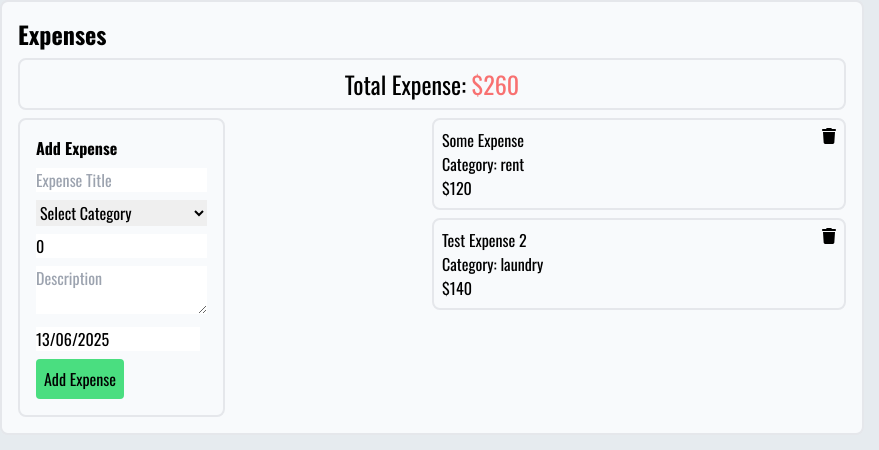
Test: List Expenses › Delete Expense › When the delete income button is clicked but there is an error with the request › should show an error message an keep the income in the list
Step 1. Click the picture with test id "delete-expense-123" → click(829, 136), box [822, 128, 836, 144]
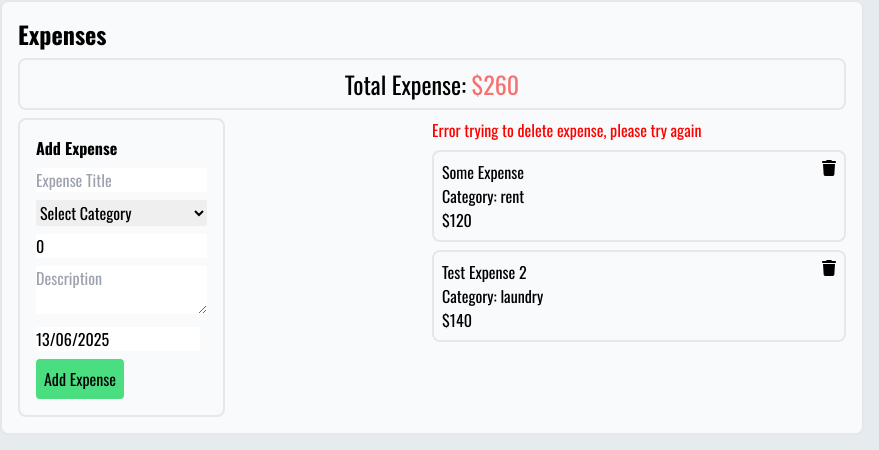
Expected: the text "Some Expense" is shown, [442, 160, 836, 184]
Expected: the text with test id "return-promise-message" reads "Error trying to delete expense, please try again", [432, 118, 701, 142]
